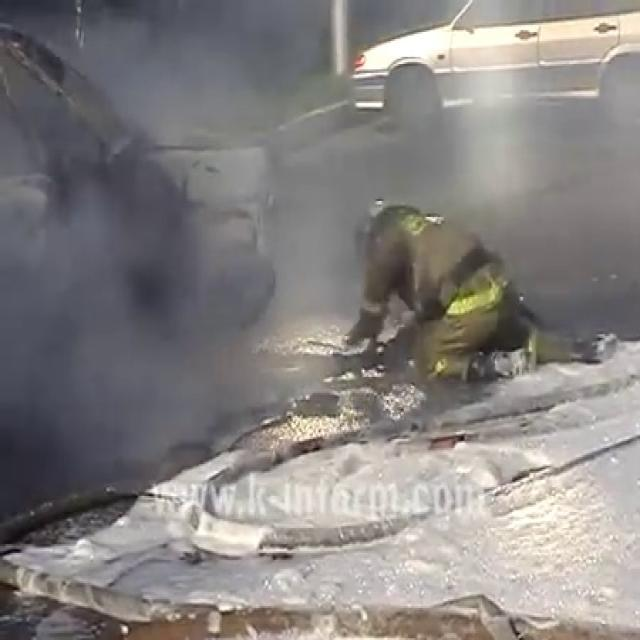Smoke: (0, 2, 302, 520)
